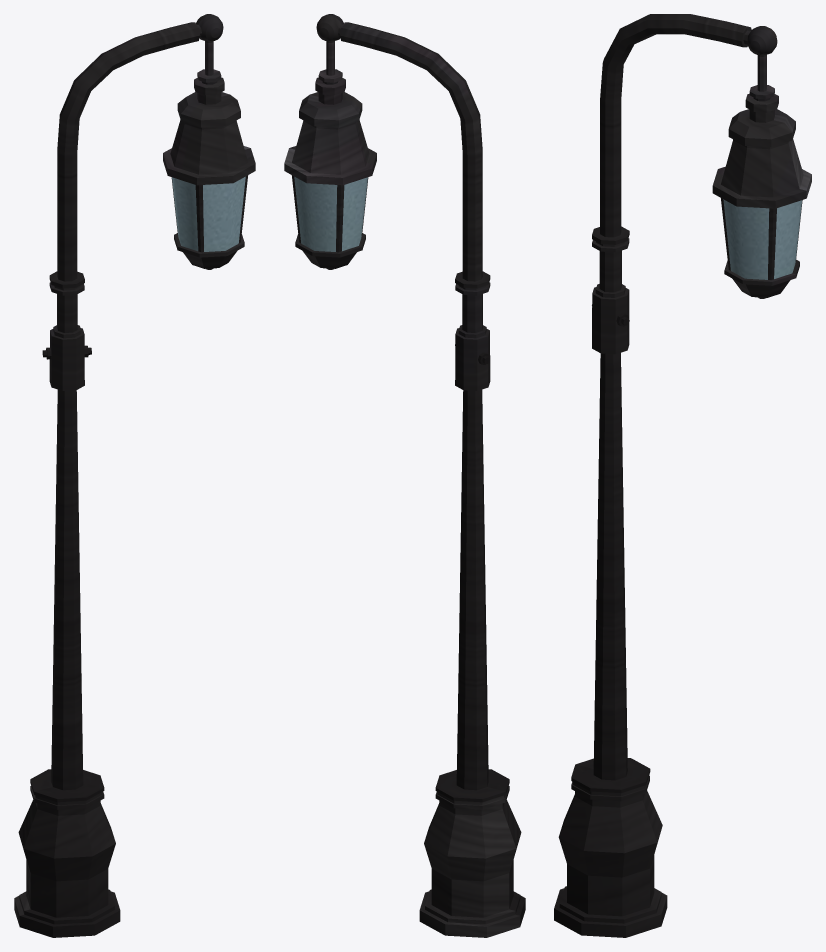
The model's file is Farola.obj.
3 views of the same model, side by side, from view 1: azimuth 30°, elevation 25°; view 2: azimuth 150°, elevation 25°; view 3: azimuth 330°, elevation 25° (orthographic). The views are drawn at different scales.
Visible parts, largest first — view 1: model_1; view 2: model_1; view 3: model_1.
Boxes of the visible parts, <box> form: model_1: <box>14,14,255,937</box>; model_1: <box>284,14,525,937</box>; model_1: <box>554,14,811,937</box>.
Size of the model in its own units: 0.6601 by 2.36 by 0.2716.
Materials: 2 (2 with a texture image).
